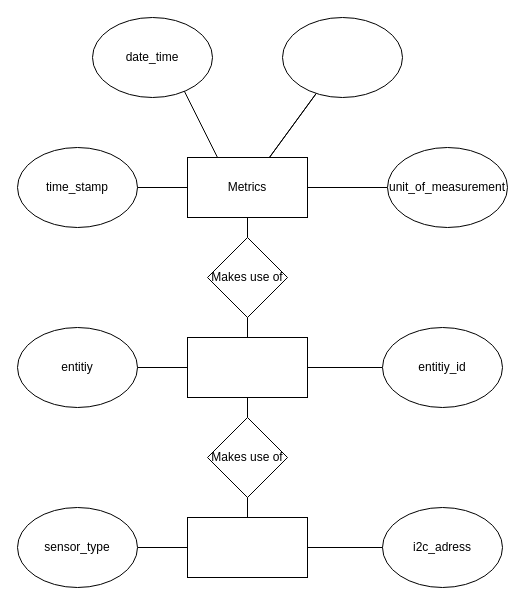
This 525x605 diagram has some shape labels left out. Each missing label, with the centre of its shape:
Entities: point (247, 367)
Sensors: point (247, 547)
value: point (342, 57)
